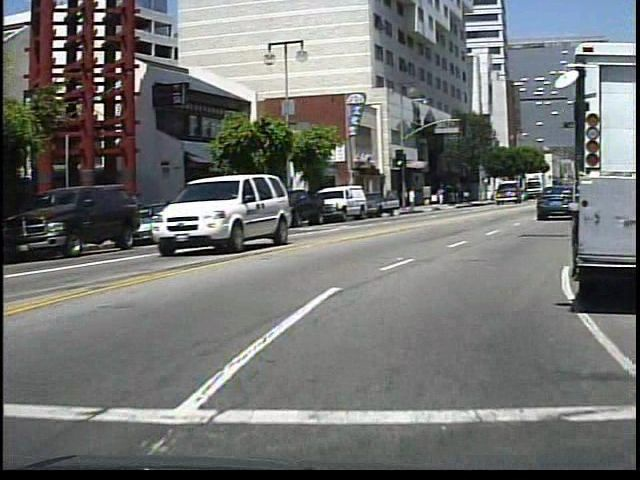person: (408, 186, 423, 214)
